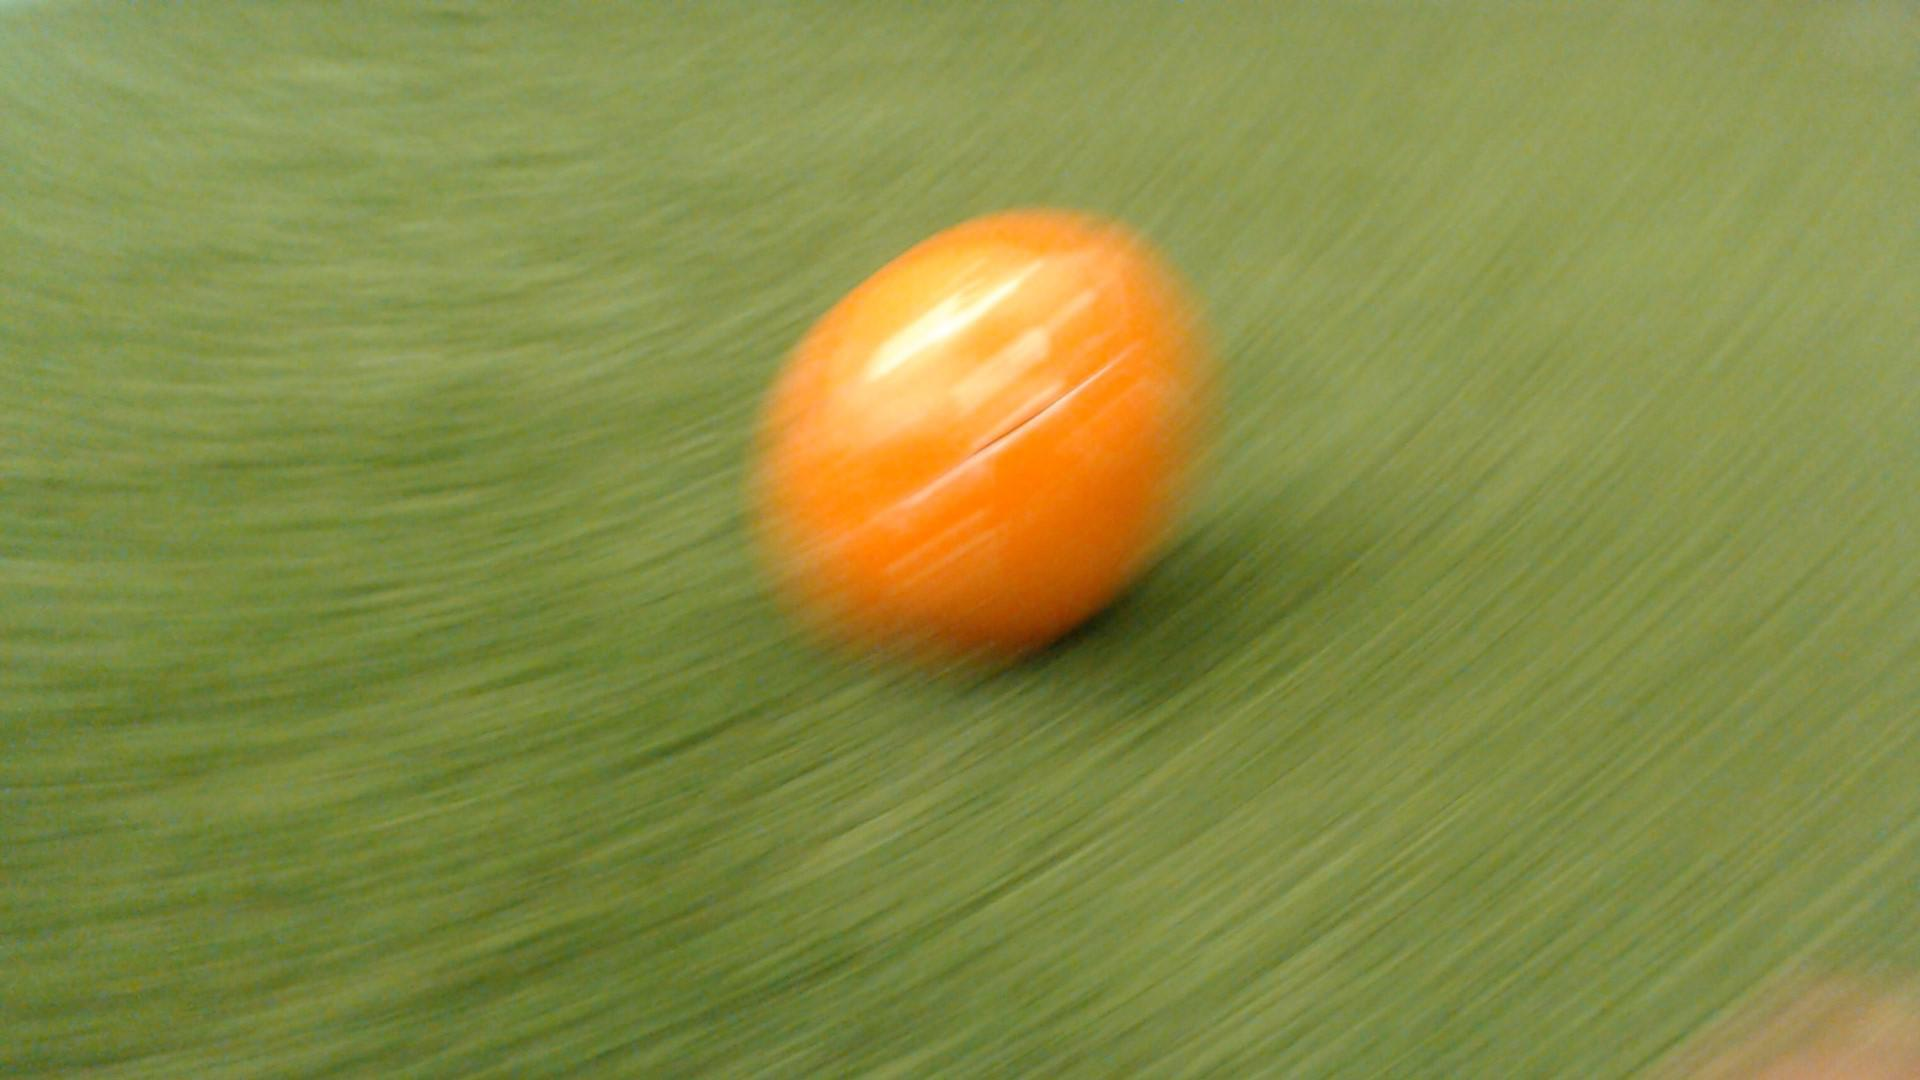bola: (715, 152, 1238, 704)
